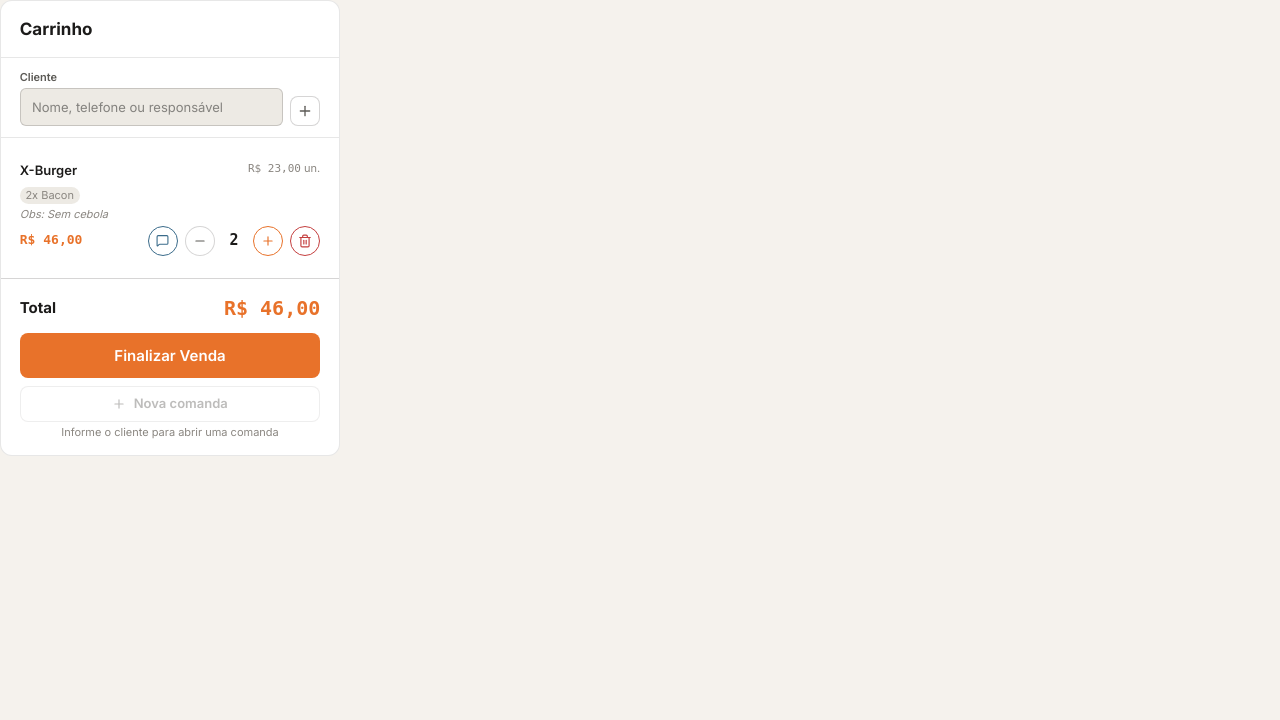
Test: Cart › closes the observation modal via Escape without saving
Click the button named "Anotação" at (163, 241), box left=148, top=226, right=178, bottom=256
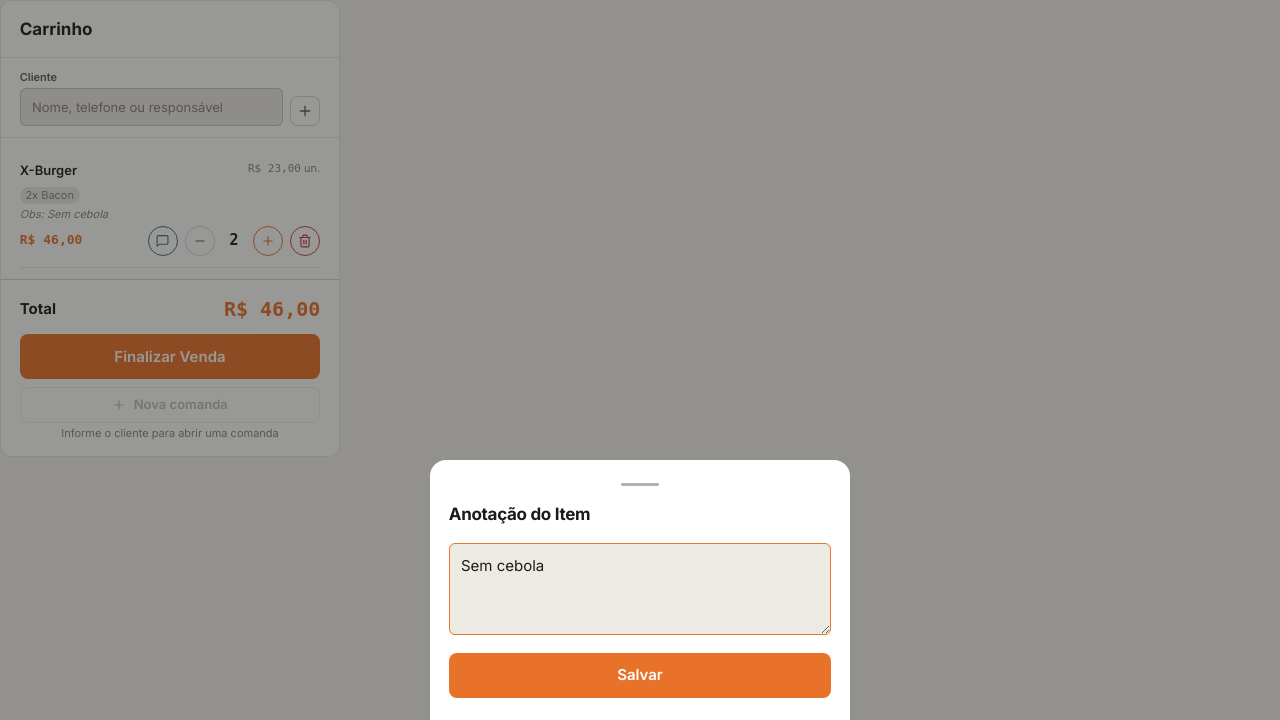
Expected: the dialog is shown, left=430, top=460, right=850, bottom=719
Press Escape
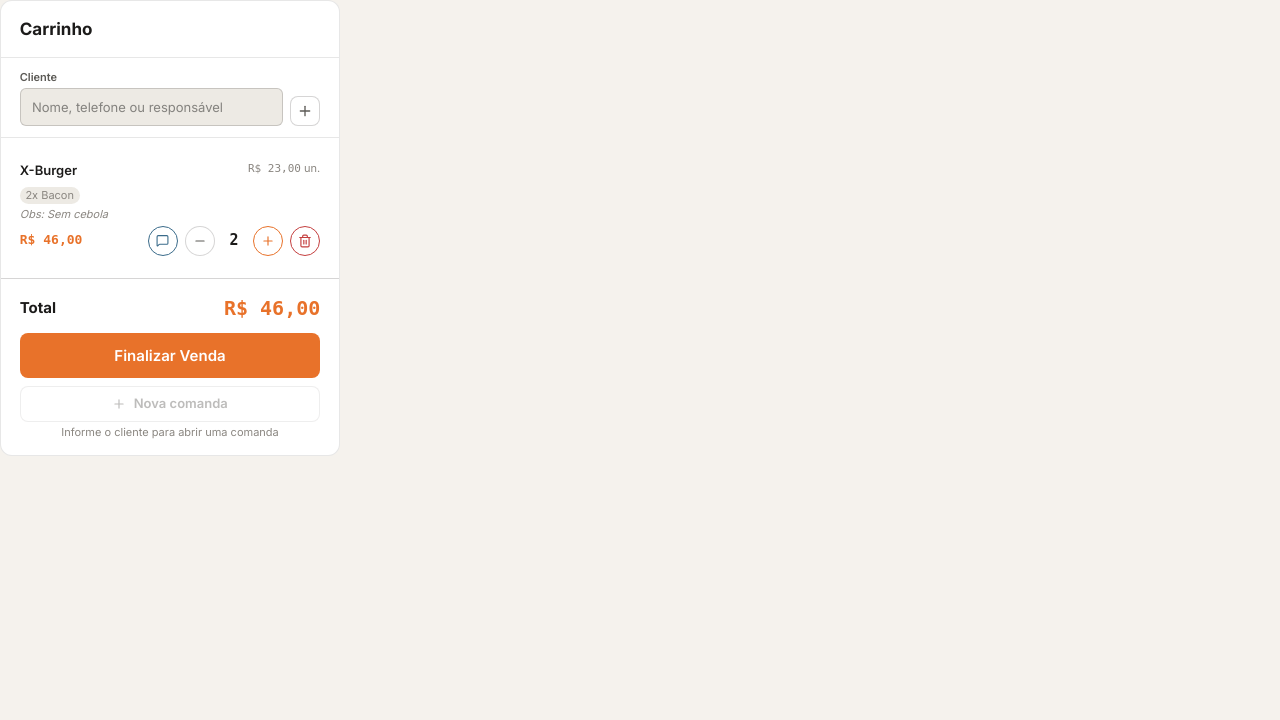
Expected: the dialog is gone
